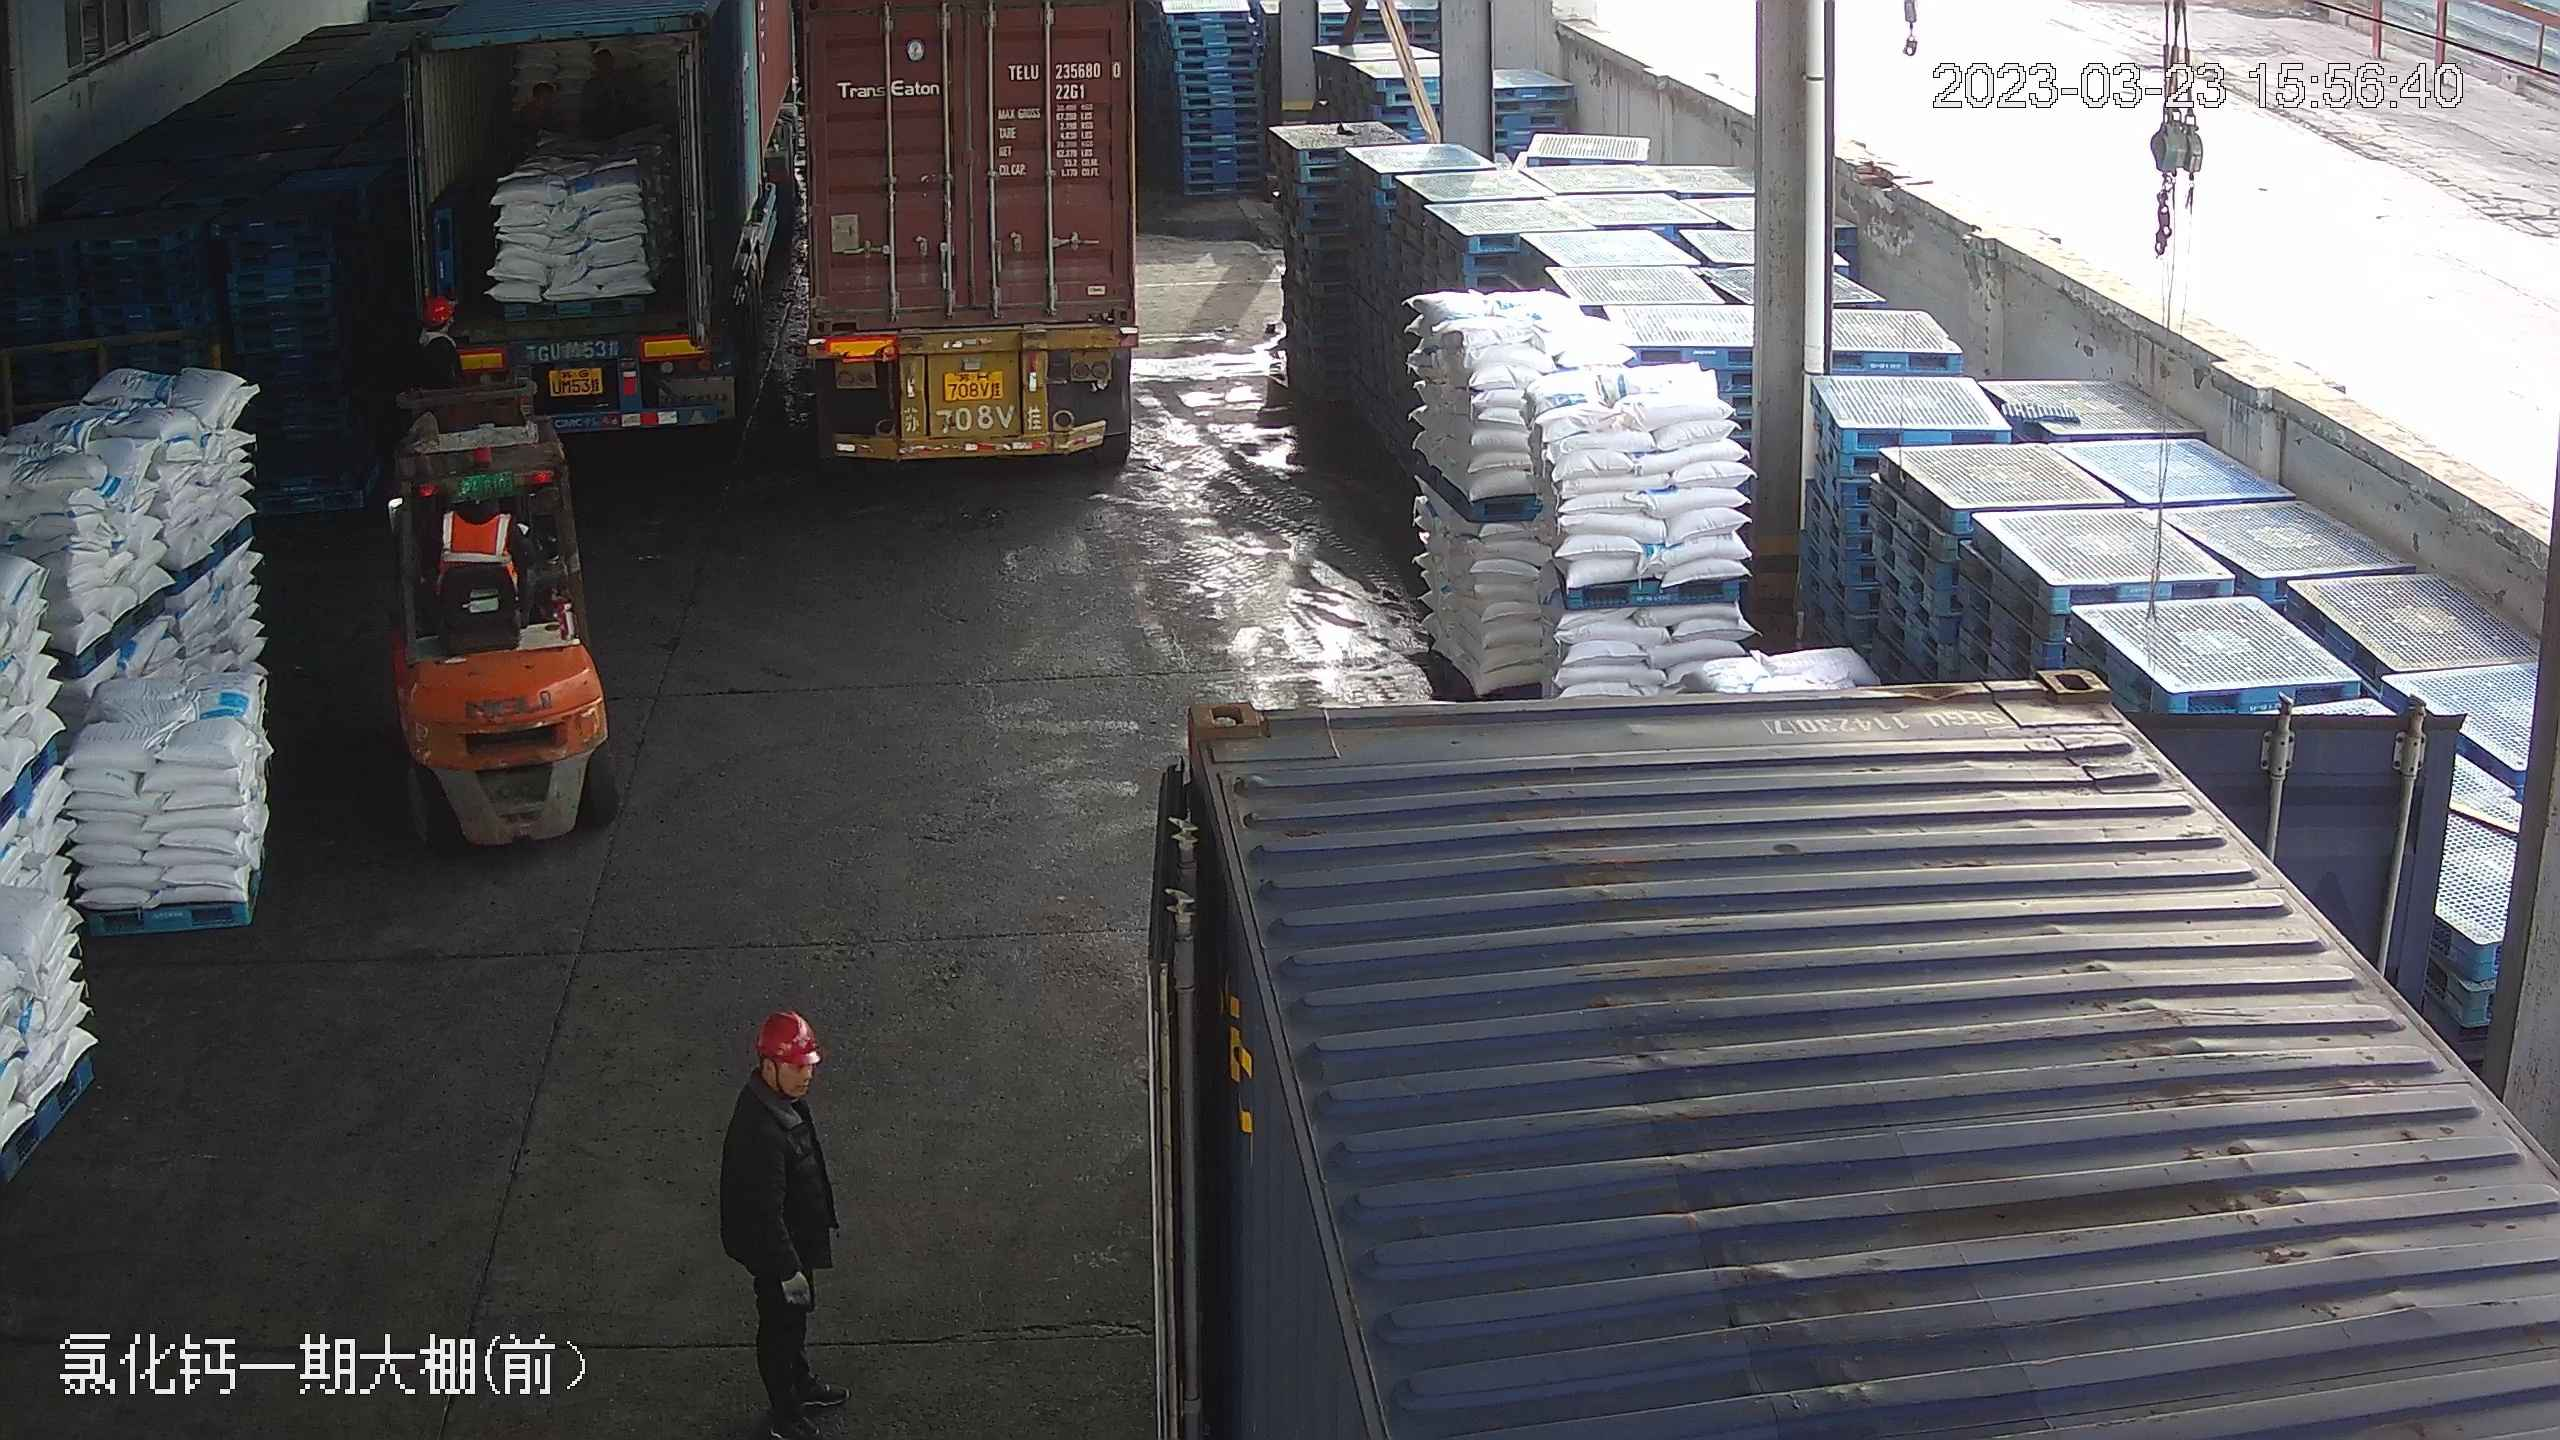head: (724, 1008, 829, 1145), (406, 290, 465, 364)
helmet: (753, 1007, 820, 1062), (421, 291, 456, 319)
people: (717, 1008, 844, 1439)
truck: (1162, 170, 2532, 1440), (738, 0, 1171, 472), (401, 21, 765, 444)
